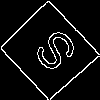S: (24, 26, 80, 82)
